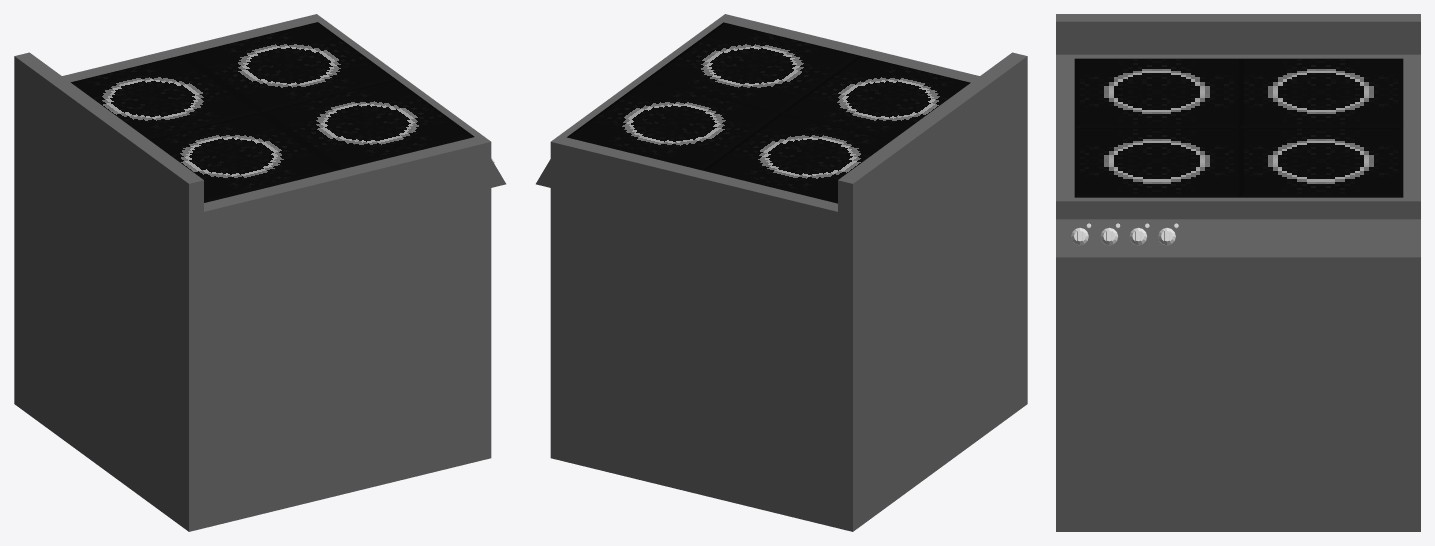
The model's file is Oven.fbx.
3 views of the same model, side by side, from view 1: azimuth 30°, elevation 25°; view 2: azimuth 150°, elevation 25°; view 3: azimuth 270°, elevation 25° (orthographic). The views are drawn at different scales.
Visible parts, largest first — view 1: Cube.008; view 2: Cube.008; view 3: Cube.008.
Part boxes in pixels (<box>): Cube.008: <box>14,14,505,531</box>; Cube.008: <box>536,14,1027,531</box>; Cube.008: <box>1056,14,1420,531</box>.
Size of the model in its own units: 105 by 110 by 100.
